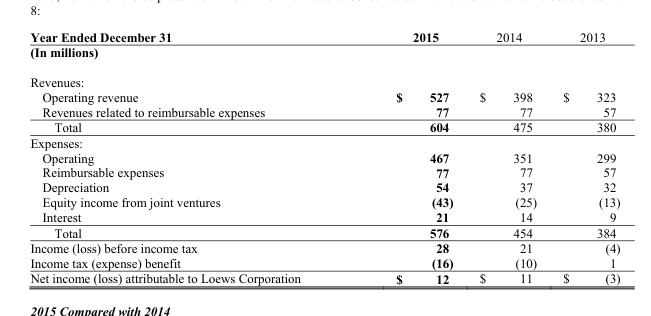table: (29, 29, 619, 285)
table column: (29, 29, 347, 285), (347, 29, 465, 285), (465, 29, 549, 285), (549, 29, 619, 285)
table column header: (29, 29, 619, 44)
table projected row header: (29, 66, 619, 89), (29, 44, 619, 66), (29, 134, 619, 149)
table row: (29, 66, 619, 89), (29, 44, 619, 66), (29, 103, 619, 119), (29, 239, 619, 255), (29, 29, 619, 44), (29, 119, 619, 134), (29, 134, 619, 149), (29, 149, 619, 164), (29, 164, 619, 179), (29, 179, 619, 194), (29, 194, 619, 209), (29, 209, 619, 224), (29, 224, 619, 239), (29, 255, 619, 270), (29, 270, 619, 285), (29, 89, 619, 103)
